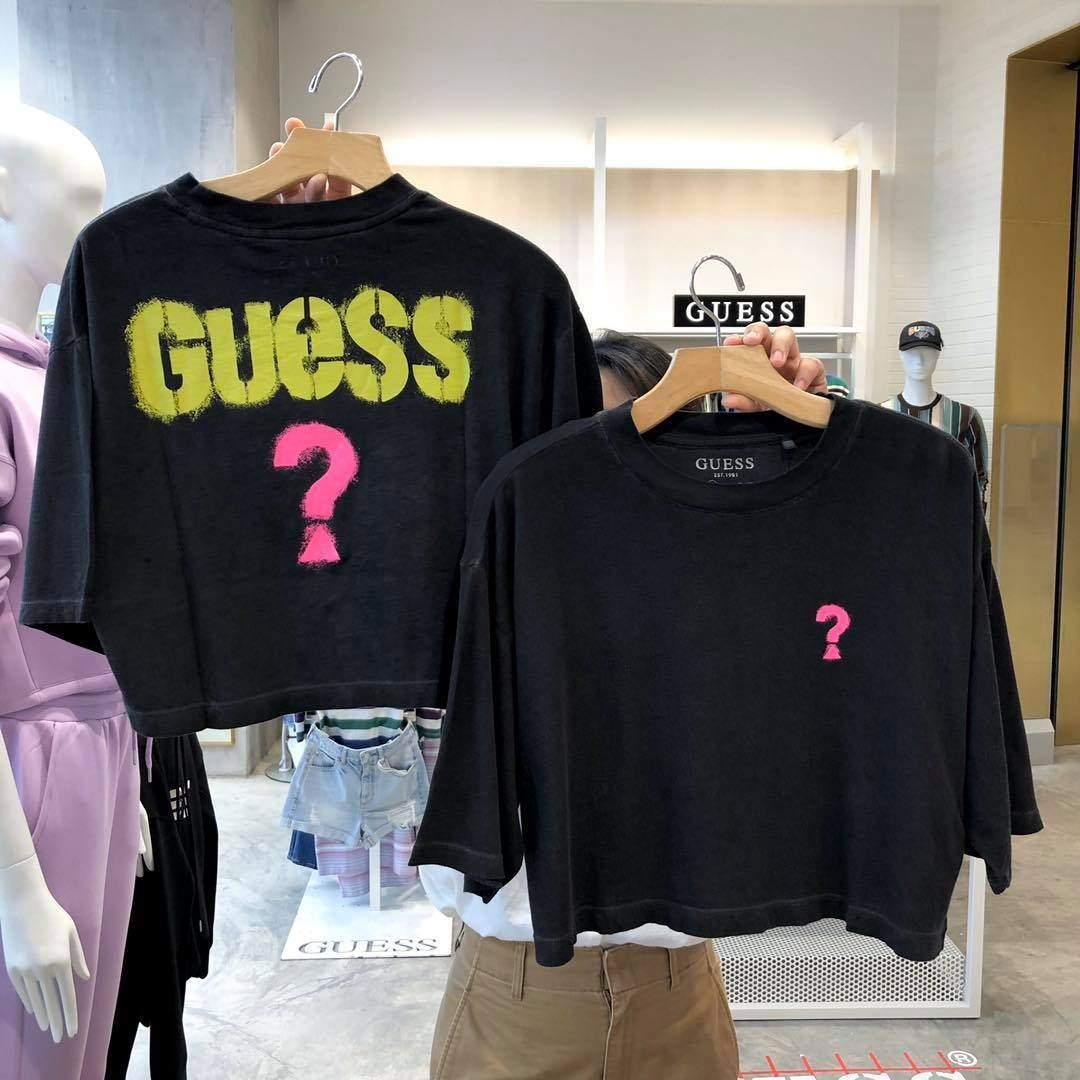Tshirt: (405, 391, 1047, 965), (0, 163, 613, 741)
